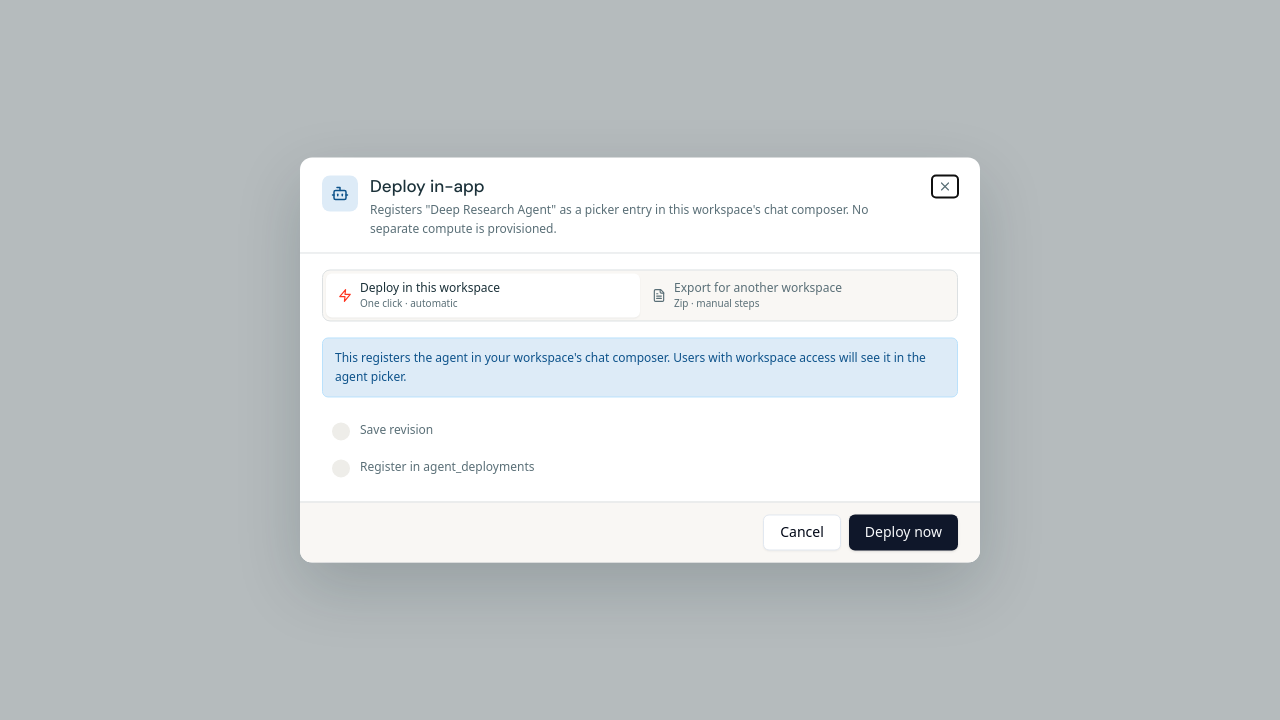
InAppWizard › shows error message when the mutation fails
This screenshot has width=1280, height=720.
Click the button with test id "in-app-wizard-submit".
click(903, 532)  # box [849,514,958,550]
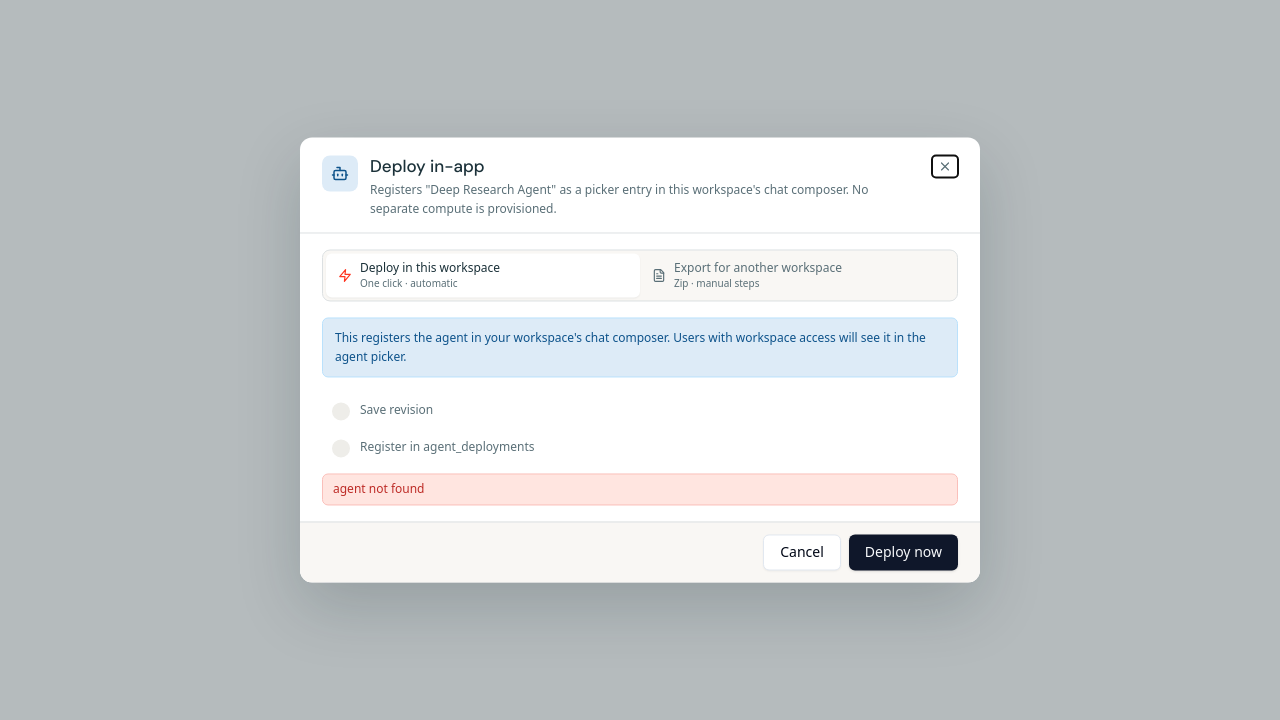
Expected: the message "agent not found" is shown, [322,474,958,506]
